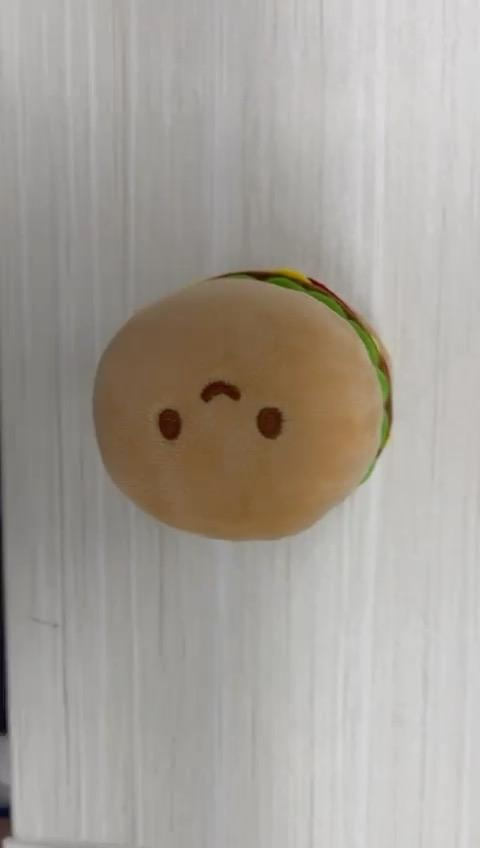hamburger: (93, 269, 393, 541)
